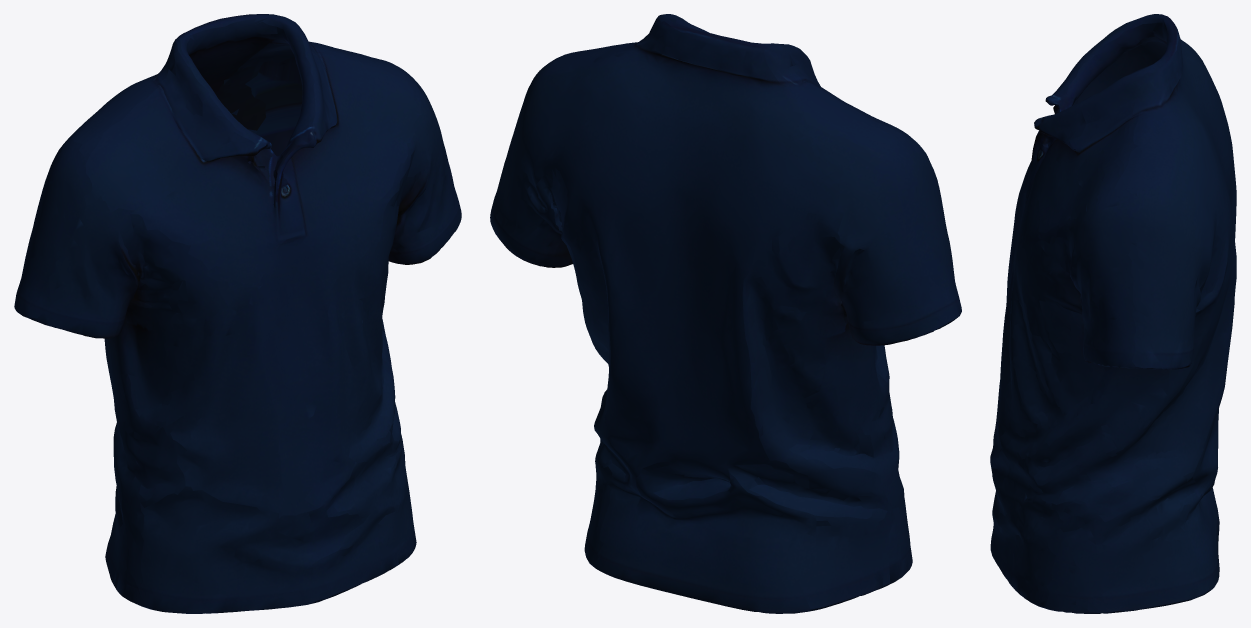
The model's file is polov3gg.glb.
The picture shows the model from 3 angles, left to right: view 1: azimuth 30°, elevation 25°; view 2: azimuth 150°, elevation 25°; view 3: azimuth 270°, elevation 25°; orthographic projection. The views are drawn at different scales.
Visible parts, largest first — view 1: textured_mesh; view 2: textured_mesh; view 3: textured_mesh.
Part boxes in pixels (left/top/right/bottom): textured_mesh: left=14, top=14, right=461, bottom=613; textured_mesh: left=490, top=14, right=961, bottom=613; textured_mesh: left=990, top=14, right=1236, bottom=613.
Size of the model in its own units: 1.76 by 1.99 by 0.8646.
1 material, 1 textured.
